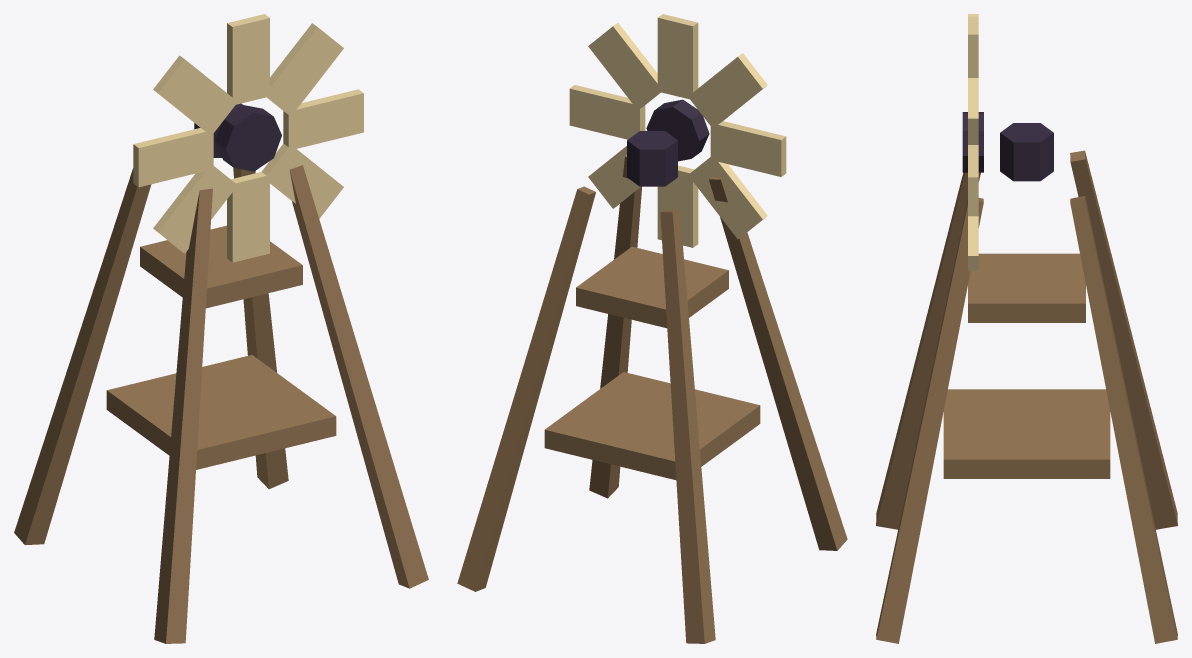
Rendered from windpump.glb.
3 views of the same model, side by side, from view 1: azimuth 30°, elevation 25°; view 2: azimuth 150°, elevation 25°; view 3: azimuth 270°, elevation 25° (orthographic). The views are drawn at different scales.
Parts seen in each view (by area): view 1: wildwest-windpump; view 2: wildwest-windpump; view 3: wildwest-windpump.
Boxes of the visible parts, box(x1,y1,x2,y2) form: wildwest-windpump: box(14, 14, 428, 643); wildwest-windpump: box(457, 14, 847, 643); wildwest-windpump: box(876, 14, 1177, 643).
Size of the model in its own units: 0.4218 by 0.8611 by 0.4218.
